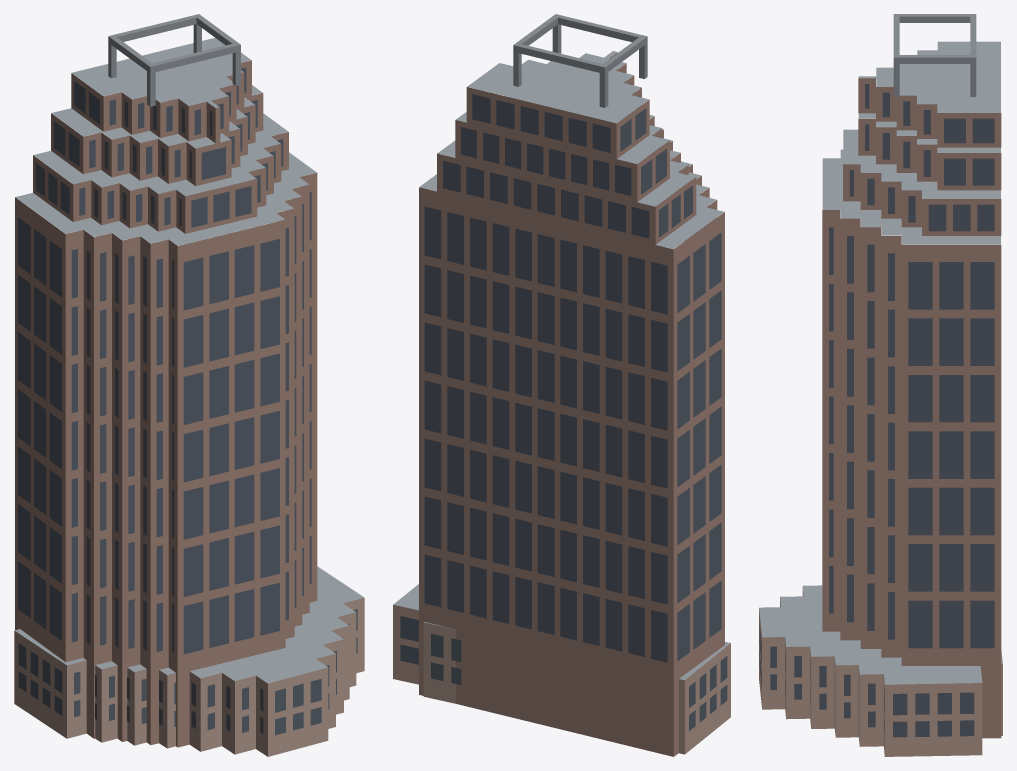
File: sat-weston-centre.glb
The picture shows the model from 3 angles, left to right: view 1: azimuth 30°, elevation 25°; view 2: azimuth 150°, elevation 25°; view 3: azimuth 270°, elevation 25°; orthographic projection. The views are drawn at different scales.
Parts seen in each view (by area): view 1: Weston Centre; view 2: Weston Centre; view 3: Weston Centre.
Part boxes in pixels (<box>): Weston Centre: <box>14,14,364,756</box>; Weston Centre: <box>393,14,730,756</box>; Weston Centre: <box>759,14,1002,756</box>.
Bounding box in the file's own units: 65.9 × 139 × 47.7.
